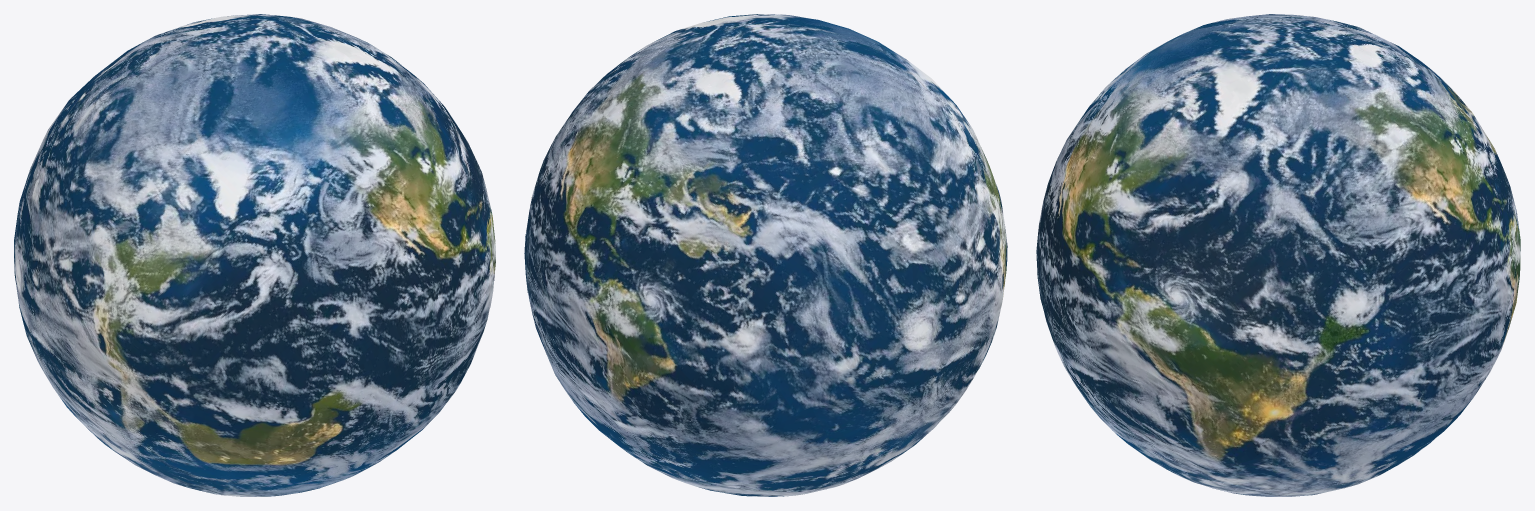
Rendered from kure.glb.
3 renders of one model, left to right at view 1: azimuth 30°, elevation 25°; view 2: azimuth 150°, elevation 25°; view 3: azimuth 270°, elevation 25°, orthographic.
Visible parts, largest first — view 1: Mesh0; view 2: Mesh0; view 3: Mesh0.
Boxes of the visible parts, bbox=[...] form: Mesh0: bbox=[14, 14, 495, 496]; Mesh0: bbox=[524, 14, 1007, 496]; Mesh0: bbox=[1036, 14, 1520, 496].
Bounding box in the file's own units: 1.89 × 1.9 × 1.9.
Materials: 1 (1 with a texture image).
